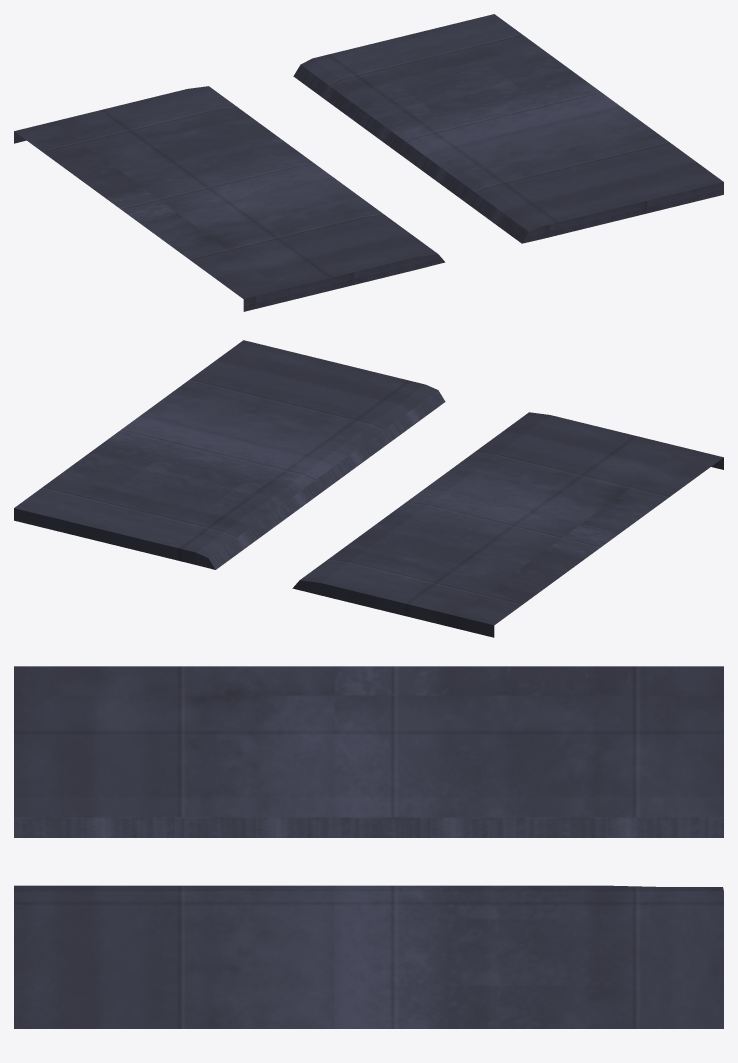
Rendered from closed_borders.glb.
3 renders of one model, top to bottom at view 1: azimuth 30°, elevation 25°; view 2: azimuth 150°, elevation 25°; view 3: azimuth 270°, elevation 25°, orthographic. The views are drawn at different scales.
Parts seen in each view (by area): view 1: closed_borders; view 2: closed_borders; view 3: closed_borders.
Boxes of the visible parts, x1,y1,x2,y2 form: closed_borders: [14, 14, 723, 311]; closed_borders: [14, 340, 723, 637]; closed_borders: [14, 666, 723, 1028].
Size of the model in its own units: 604 by 15.64 by 500.
Materials: 1 (1 with a texture image).
